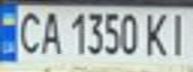0: (118, 10, 142, 57)
1: (63, 9, 87, 55)
3: (84, 9, 106, 55)
5: (103, 10, 124, 56)
A: (36, 8, 63, 55)
C: (12, 8, 45, 55)
I: (163, 9, 193, 57)
K: (142, 9, 172, 57)
